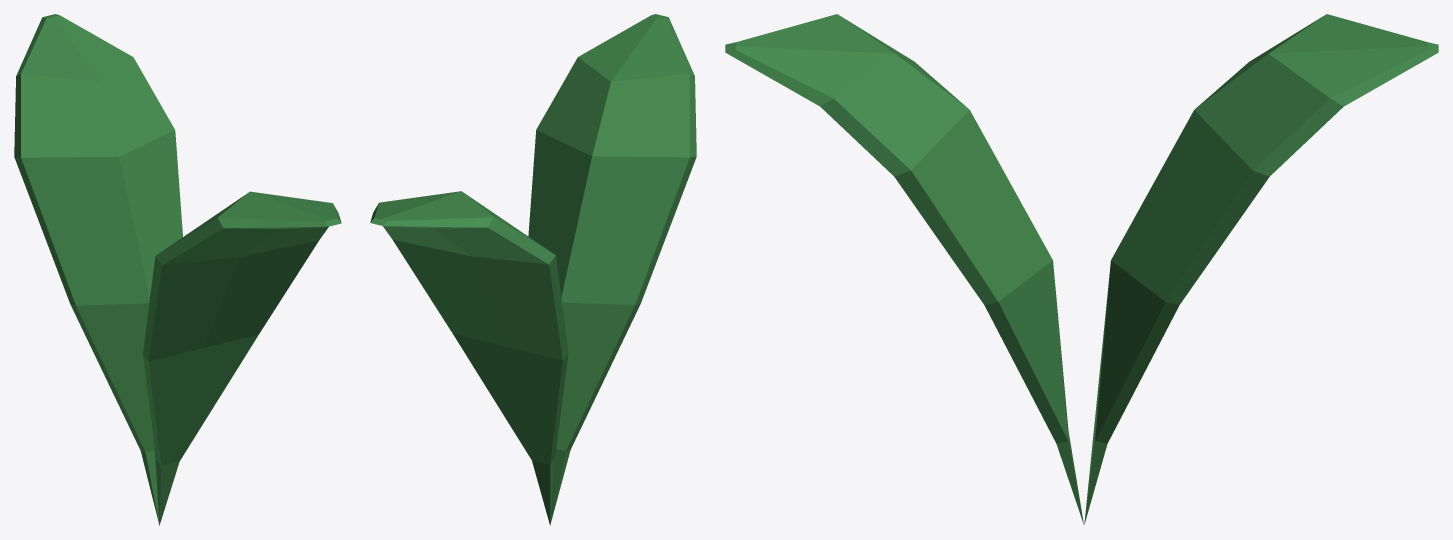
File: baby.fbx
3 views of the same model, side by side, from view 1: azimuth 30°, elevation 25°; view 2: azimuth 150°, elevation 25°; view 3: azimuth 270°, elevation 25° (orthographic). The views are drawn at different scales.
Parts seen in each view (by area): view 1: baby; view 2: baby; view 3: baby.
Boxes of the visible parts, box(x1,y1,x2,y2) form: baby: box(14, 14, 341, 525); baby: box(370, 14, 696, 525); baby: box(725, 14, 1438, 524).
Size of the model in its own units: 3.84 by 9.43 by 12.22.
